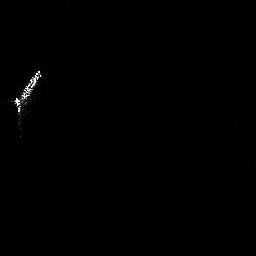ship: (7, 66, 46, 122)
